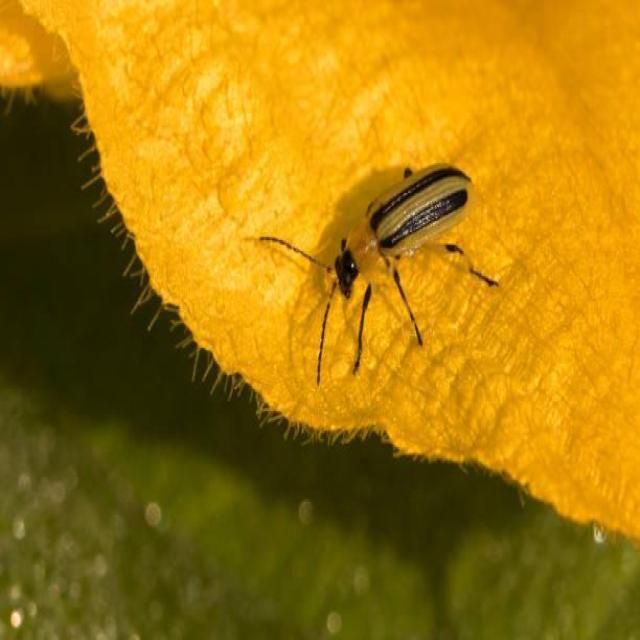trips: (257, 161, 501, 387)
